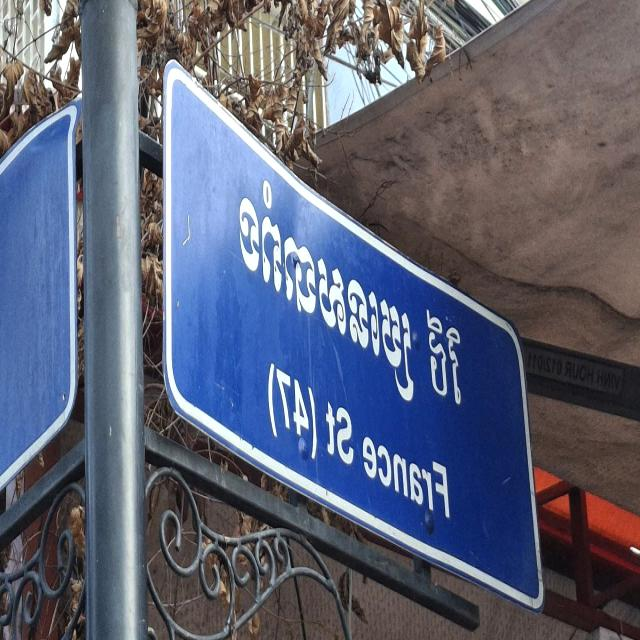Yolov11_80vkh: (222, 136, 420, 444), (425, 287, 487, 452)
